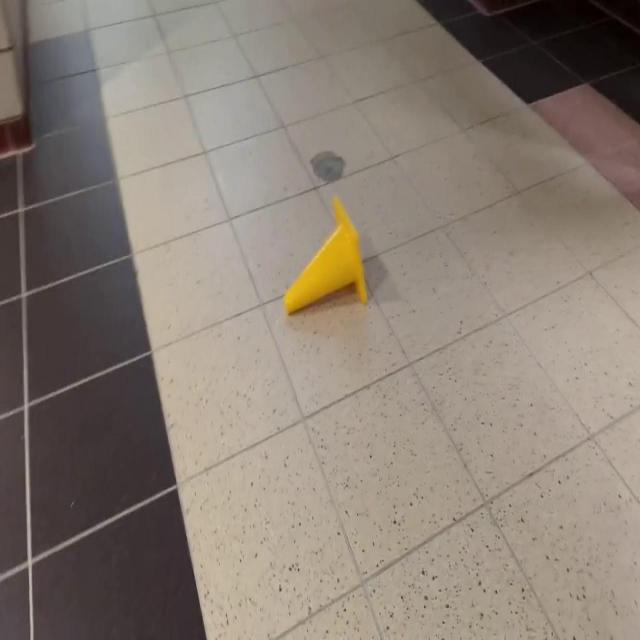frc_cone: (283, 194, 369, 318)
